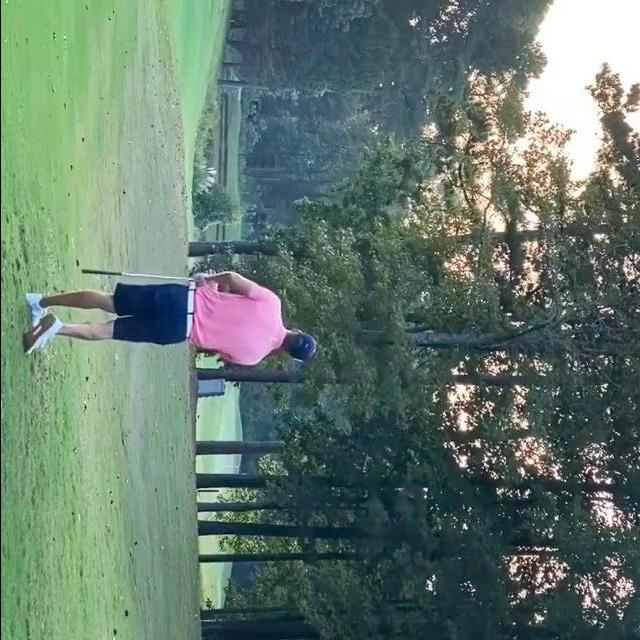golf club-handle: (80, 269, 194, 281)
